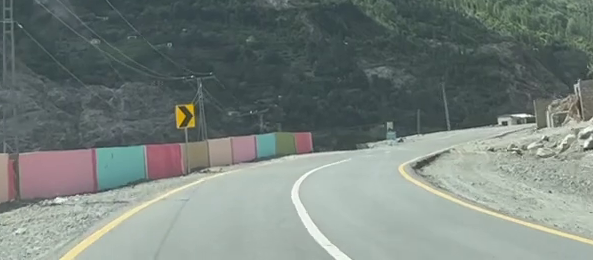stright: (204, 137, 510, 261)
